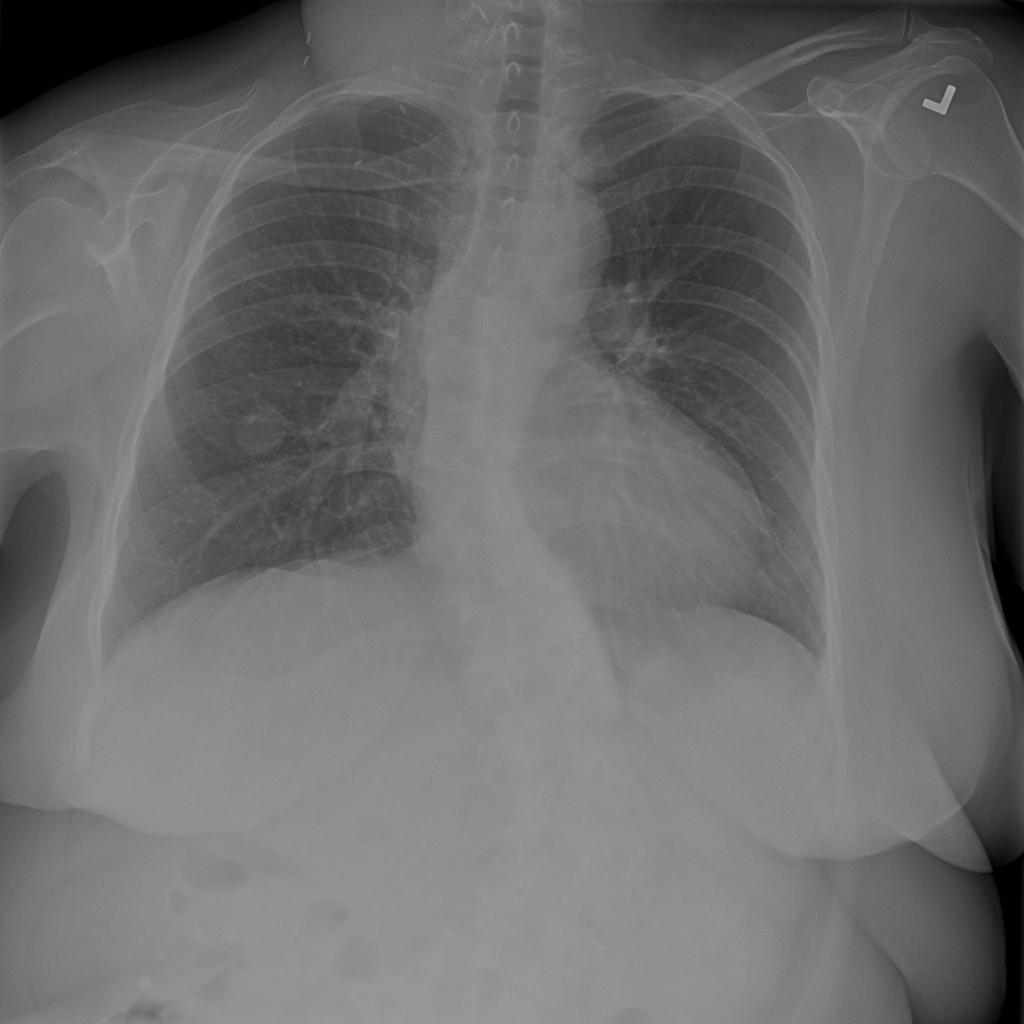nodule: (221, 392, 299, 466)
